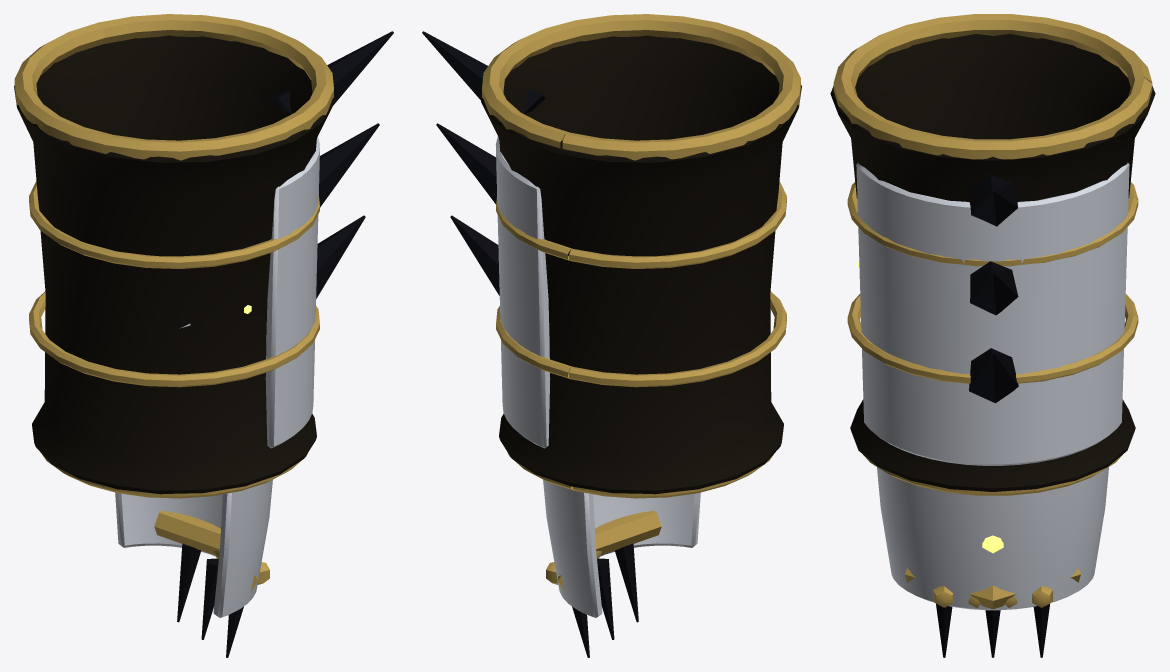
File: esc_null_reaper_gloves.glb
3 renders of one model, left to right at view 1: azimuth 30°, elevation 25°; view 2: azimuth 150°, elevation 25°; view 3: azimuth 270°, elevation 25°, orthographic.
Parts seen in each view (by area): view 1: esc_null_reaper_gloves, AT_hand_L; view 2: esc_null_reaper_gloves, AT_hand_L; view 3: esc_null_reaper_gloves, AT_hand_L.
Part boxes in pixels (box(x1,y1,x2,y2)): esc_null_reaper_gloves: box(14, 14, 393, 498); AT_hand_L: box(115, 479, 272, 657); esc_null_reaper_gloves: box(422, 14, 801, 498); AT_hand_L: box(543, 479, 700, 657); esc_null_reaper_gloves: box(830, 14, 1155, 495); AT_hand_L: box(877, 467, 1108, 657).
Bounding box in the file's own units: 0.2539 × 0.385 × 0.2004.
